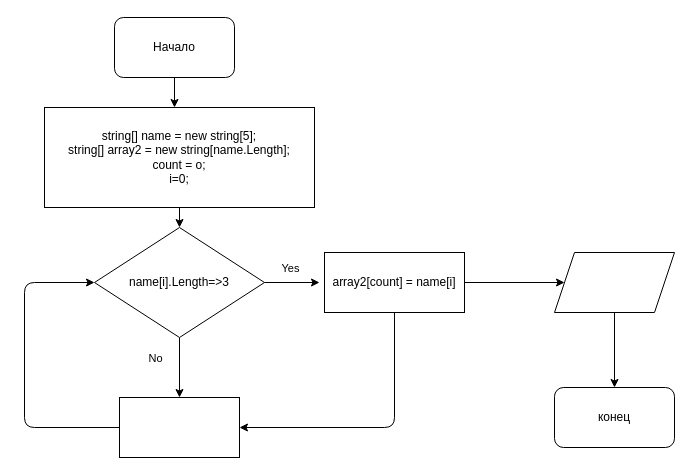
Some shapes in this 692 by 475 pixel diagram are drawn without their labels. Each missing label, with the box of its shape:
array[i]: (554, 252, 674, 312)
count++ i++: (118, 396, 240, 458)
